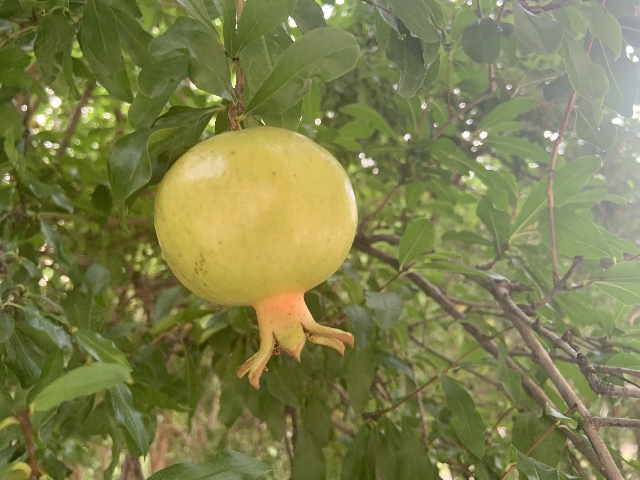mid-growth: (154, 125, 360, 390)
